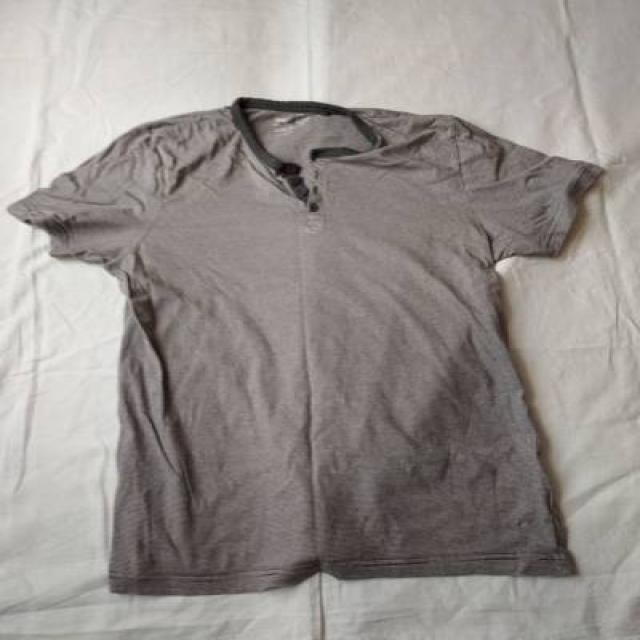Clothes -Biodegradable-: (8, 100, 599, 597)
